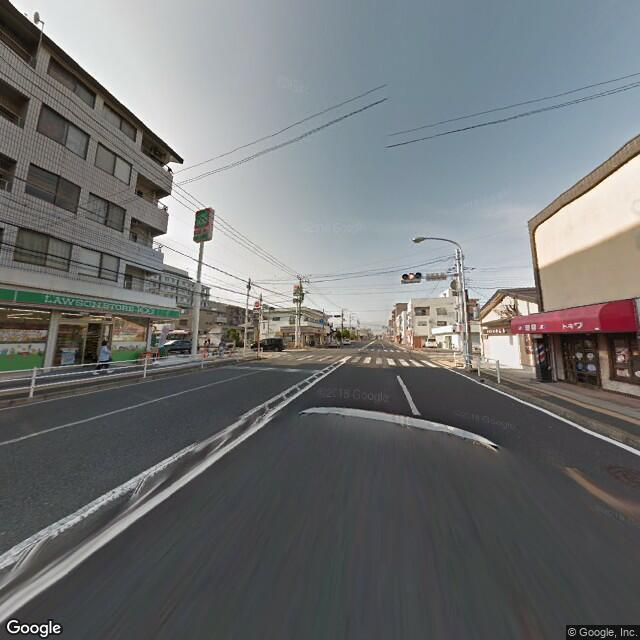lawson: (2, 279, 180, 321)
